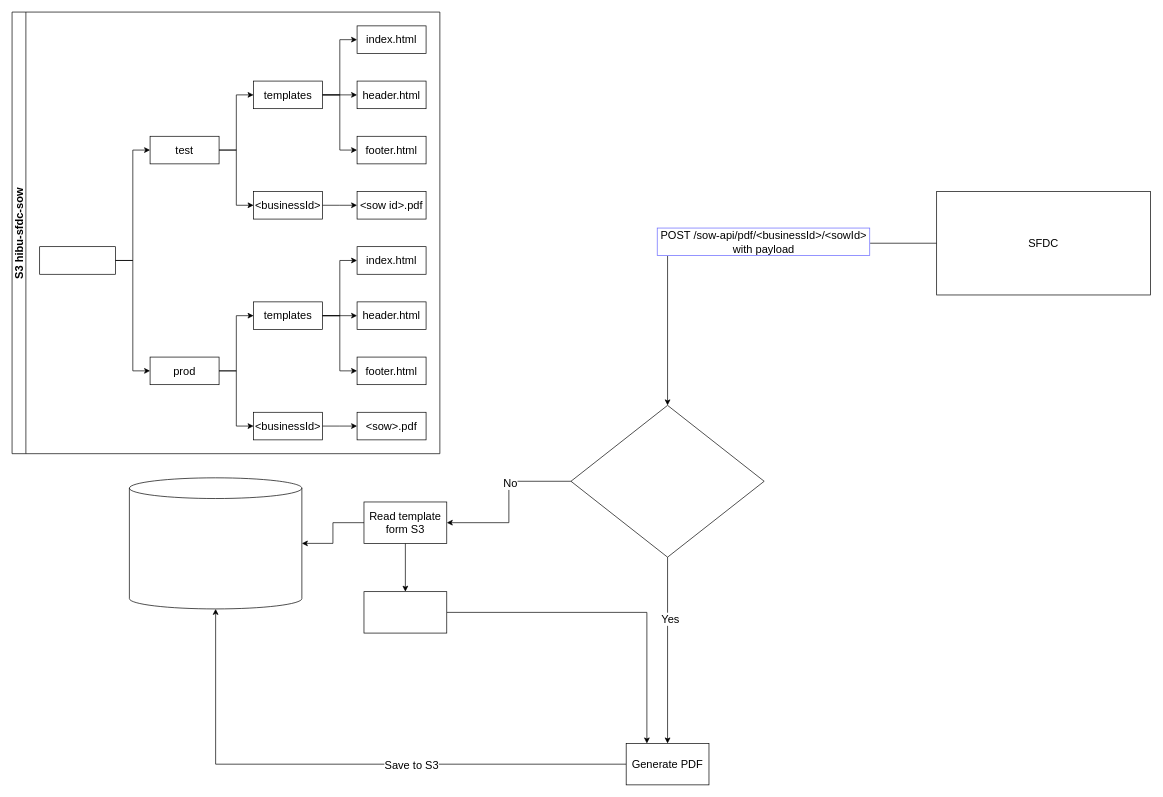
Image size: 1163x797. Some labels were removed from this diagram. The shapes that lost their labels are listed below. From the top down, each one's centre as x and y in pixels, then its label:
[77,260]: hibu-sfdc-sow
[667,481]: Html Templates in Cache?
[215,543]: AWS S3
[405,612]: Cache Template (1 hour)
